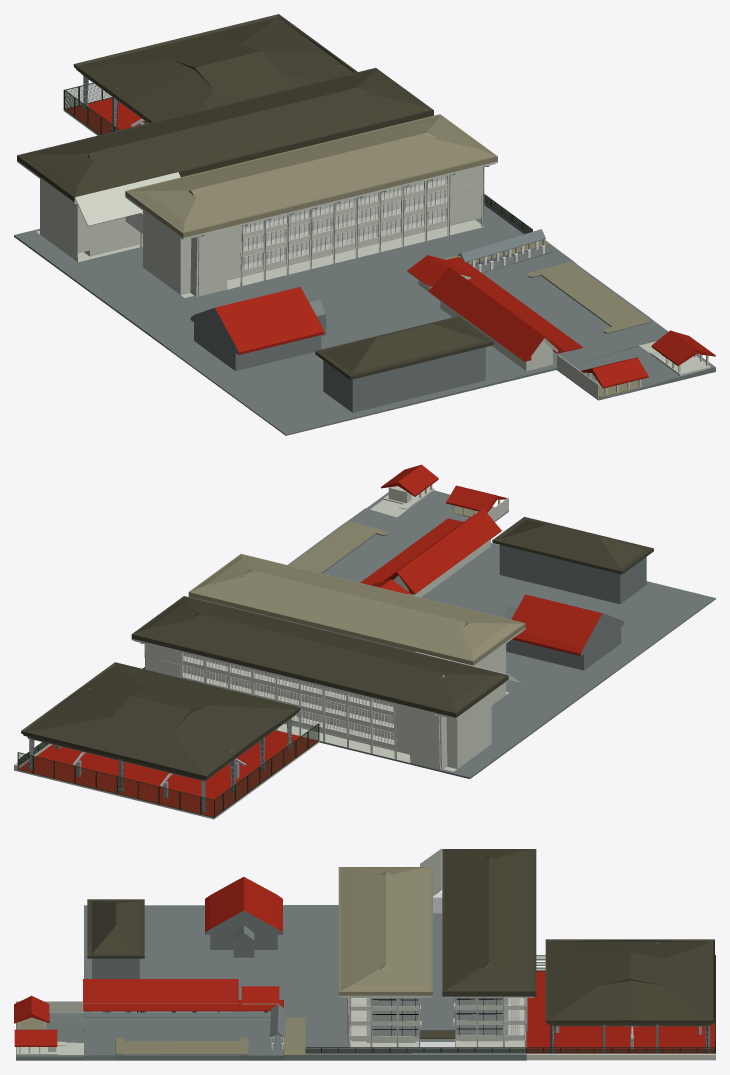
The model's file is HighSchoolBuilding.fbx.
The picture shows the model from 3 angles, top to bottom: view 1: azimuth 30°, elevation 25°; view 2: azimuth 150°, elevation 25°; view 3: azimuth 270°, elevation 25°; orthographic projection. The views are drawn at different scales.
Visible parts, largest first — view 1: Parking Area, HS Building, HS Building.001, Roof.002, Church, Building 2, Cubicle 2nd kubo, National Bookstore Roof, Court, Roof, Building 1, Roof Walkway Entrance (+1 smaller); view 2: HS Building.001, Parking Area, Roof.002, HS Building, Court, Church, Building 2, Horizontal Dividiers.001, Cubicle 2nd kubo, Horizontal Dividiers.002, National Bookstore Roof, Roof; view 3: Parking Area, HS Building.001, Roof.002, HS Building, Court, Church, Building 2, Horizontal Dividiers, Cubicle 2nd kubo, National Bookstore Roof, Fence, Building 1 (+2 smaller).
Part boxes in pixels (x1=…): Parking Area: x1=14, y1=196, x2=715, y2=435; HS Building: x1=125, y1=114, x2=497, y2=297; HS Building.001: x1=17, y1=68, x2=433, y2=262; Roof.002: x1=73, y1=14, x2=357, y2=123; Church: x1=190, y1=287, x2=326, y2=371; Building 2: x1=428, y1=267, x2=565, y2=371; Cubicle 2nd kubo: x1=557, y1=330, x2=715, y2=398; National Bookstore Roof: x1=447, y1=257, x2=582, y2=353; Court: x1=63, y1=98, x2=144, y2=135; Roof: x1=581, y1=357, x2=648, y2=388; Building 1: x1=407, y1=255, x2=470, y2=291; Roof Walkway Entrance: x1=457, y1=229, x2=545, y2=262; HS Building.001: x1=131, y1=596, x2=520, y2=771; Parking Area: x1=288, y1=490, x2=715, y2=778; Roof.002: x1=21, y1=662, x2=300, y2=781; HS Building: x1=188, y1=554, x2=525, y2=705; Court: x1=14, y1=730, x2=319, y2=819; Church: x1=502, y1=594, x2=624, y2=670; Building 2: x1=383, y1=508, x2=501, y2=597; Horizontal Dividiers.001: x1=18, y1=753, x2=214, y2=816; Cubicle 2nd kubo: x1=370, y1=464, x2=508, y2=521; Horizontal Dividiers.002: x1=215, y1=724, x2=318, y2=816; National Bookstore Roof: x1=360, y1=518, x2=463, y2=585; Roof: x1=446, y1=485, x2=506, y2=512; Parking Area: x1=16, y1=899, x2=526, y2=1060; HS Building.001: x1=420, y1=848, x2=536, y2=1047; Roof.002: x1=545, y1=939, x2=714, y2=1026; HS Building: x1=338, y1=867, x2=432, y2=1047; Court: x1=526, y1=971, x2=715, y2=1060; Church: x1=205, y1=877, x2=282, y2=957; Building 2: x1=83, y1=979, x2=238, y2=1012; Horizontal Dividiers: x1=306, y1=1048, x2=714, y2=1052; Cubicle 2nd kubo: x1=14, y1=1001, x2=83, y2=1054; National Bookstore Roof: x1=83, y1=1000, x2=283, y2=1011; Fence: x1=305, y1=1047, x2=714, y2=1053; Building 1: x1=241, y1=986, x2=279, y2=1012.
Bounding box in the file's own units: 14537 × 3139 × 27950.
